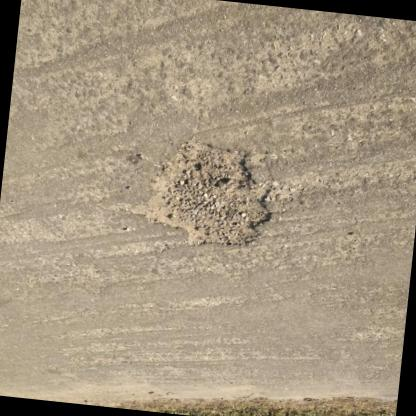pothole: (124, 132, 280, 255)
